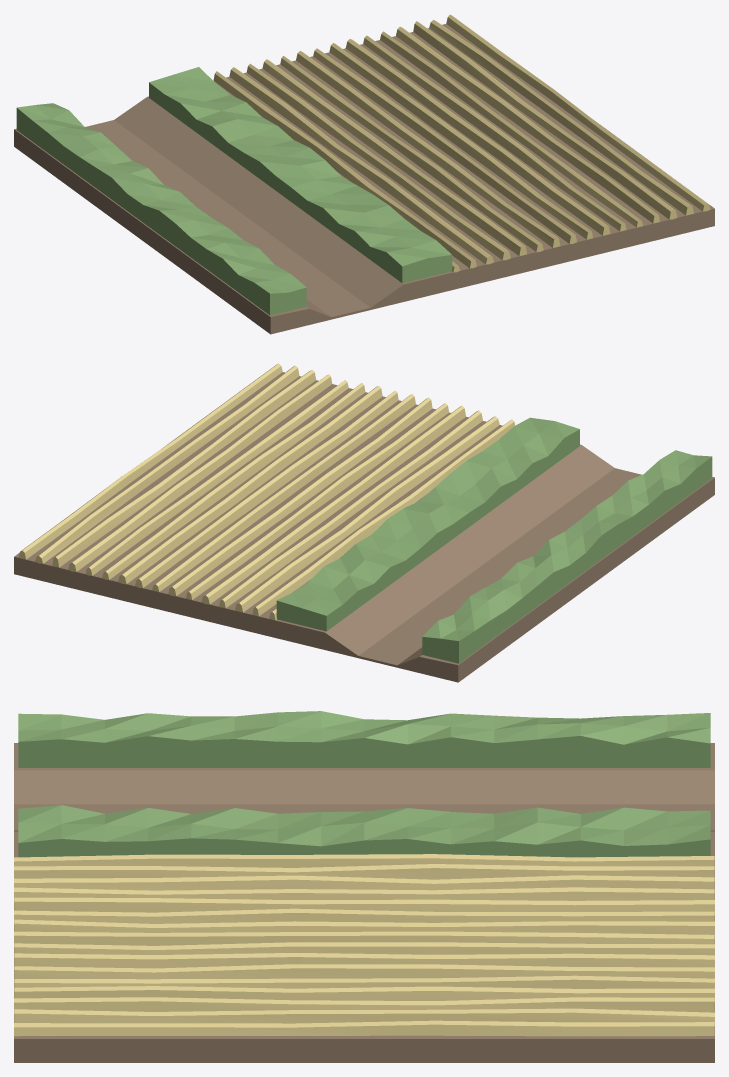
The model's file is arable-fields-and-farm-machinery-field-tile-ditch-edge-31480c7c__16879.glb.
3 renders of one model, top to bottom at view 1: azimuth 30°, elevation 25°; view 2: azimuth 150°, elevation 25°; view 3: azimuth 270°, elevation 25°, orthographic. The views are drawn at different scales.
Parts seen in each view (by area): view 1: field-tile-ditch-edge; view 2: field-tile-ditch-edge; view 3: field-tile-ditch-edge.
Boxes of the visible parts, left/top/right/bottom form: field-tile-ditch-edge: left=14, top=14, right=714, bottom=334; field-tile-ditch-edge: left=14, top=363, right=714, bottom=682; field-tile-ditch-edge: left=14, top=711, right=714, bottom=1062.
Bounding box in the file's own units: 8 × 0.7118 × 8.
